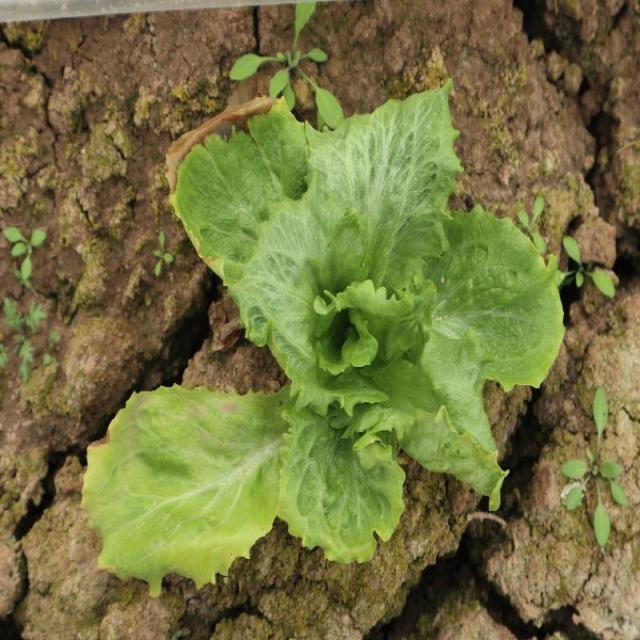crop: (80, 83, 565, 580)
